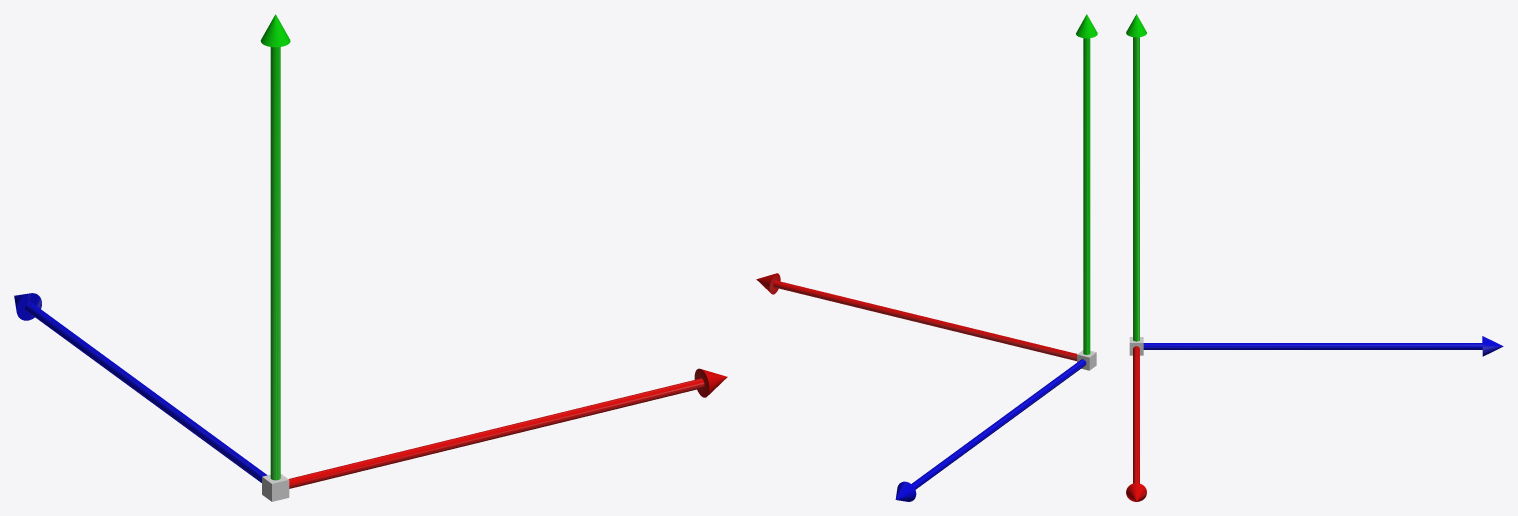
File: Axis2.fbx
3 views of the same model, side by side, from view 1: azimuth 30°, elevation 25°; view 2: azimuth 150°, elevation 25°; view 3: azimuth 270°, elevation 25° (orthographic). The views are drawn at different scales.
Parts seen in each view (by area): view 1: Cone.002; view 2: Cone.002; view 3: Cone.002.
Part boxes in pixels (x1=…): Cone.002: x1=14, y1=14, x2=727, y2=501; Cone.002: x1=756, y1=14, x2=1097, y2=501; Cone.002: x1=1126, y1=14, x2=1503, y2=501.
Size of the model in its own units: 1080 by 1082 by 1080.
